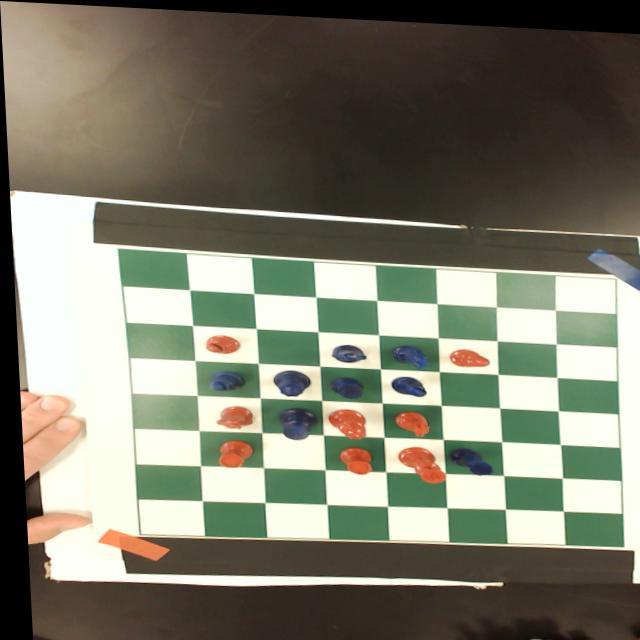B: (203, 367, 244, 390), (385, 371, 425, 393)
K: (268, 403, 314, 439)
N: (386, 338, 430, 366), (324, 339, 366, 361)
Q: (267, 364, 309, 395)
R: (442, 441, 489, 471), (323, 370, 363, 397)
b: (199, 330, 240, 352), (445, 343, 488, 363)
k: (391, 440, 442, 480)
n: (206, 401, 253, 429), (388, 406, 429, 433)
q: (321, 403, 365, 437)
r: (212, 435, 251, 467), (334, 442, 370, 471)
